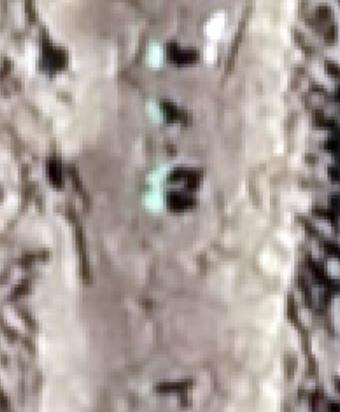cotton: (141, 168, 166, 206), (150, 43, 167, 69), (149, 101, 167, 123)
